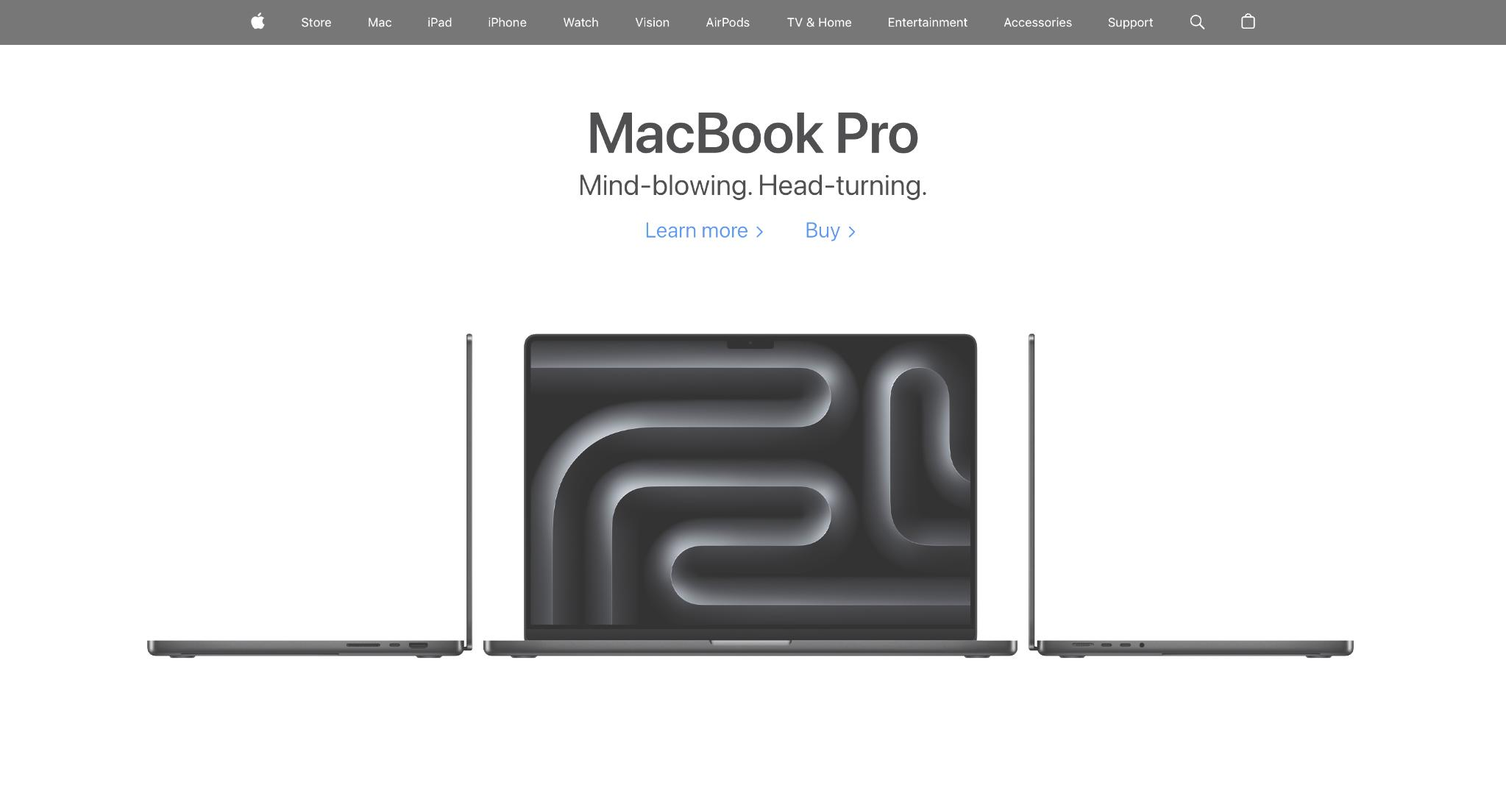webelement: (0, 0, 1505, 799), (0, 0, 1505, 44), (0, 168, 1505, 200), (880, 0, 975, 44), (995, 0, 1080, 44), (778, 0, 860, 44), (644, 217, 764, 242), (697, 0, 758, 44), (1100, 0, 1161, 44), (479, 0, 534, 44), (554, 0, 606, 44), (626, 0, 676, 44), (292, 0, 339, 44), (359, 0, 399, 44), (419, 0, 459, 44), (1180, 0, 1212, 44), (242, 0, 273, 44), (1232, 0, 1262, 44), (804, 217, 855, 242), (324, 0, 347, 44), (384, 0, 406, 44), (444, 0, 466, 44), (519, 0, 541, 44), (591, 0, 613, 44), (743, 0, 765, 44), (845, 0, 867, 44), (960, 0, 982, 44), (1065, 0, 1087, 44), (1146, 0, 1168, 44)
